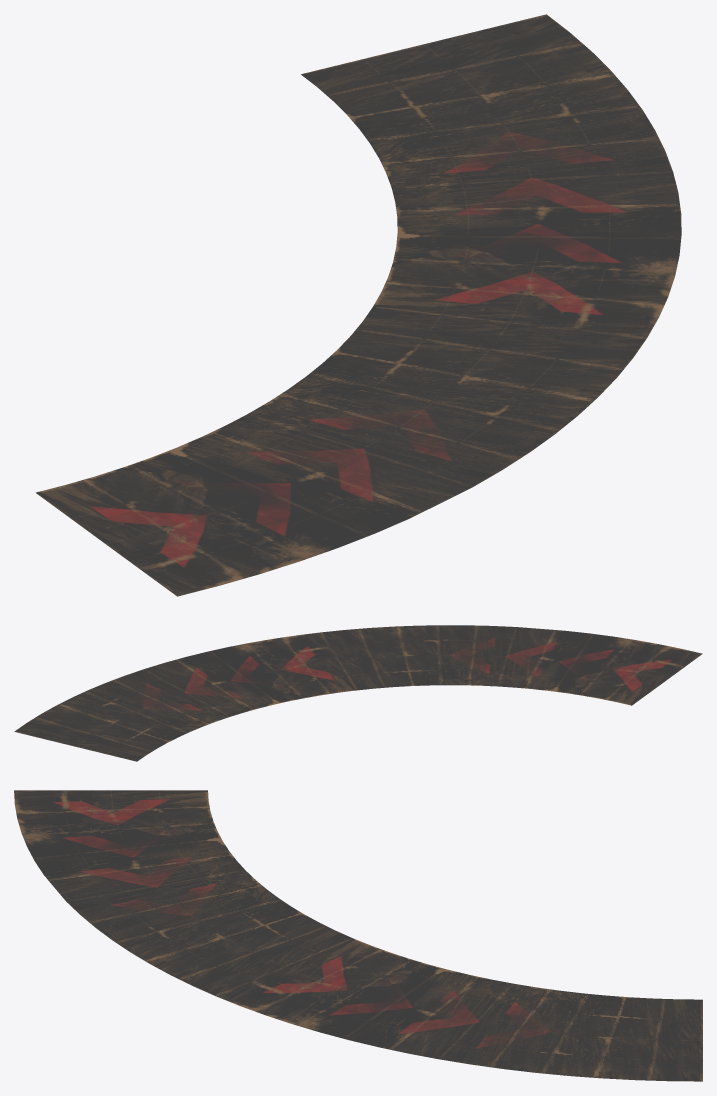
File: Route_V_90x1.fbx
3 renders of one model, top to bottom at view 1: azimuth 30°, elevation 25°; view 2: azimuth 150°, elevation 25°; view 3: azimuth 270°, elevation 25°, orthographic. The views are drawn at different scales.
Visible parts, largest first — view 1: polySurface168; view 2: polySurface168; view 3: polySurface168.
Boxes of the visible parts, x1=… form: polySurface168: x1=36, y1=14, x2=681, y2=596; polySurface168: x1=14, y1=625, x2=702, y2=761; polySurface168: x1=14, y1=790, x2=702, y2=1081.
Bounding box in the file's own units: 44.46 × 1.24e-07 × 44.46.
